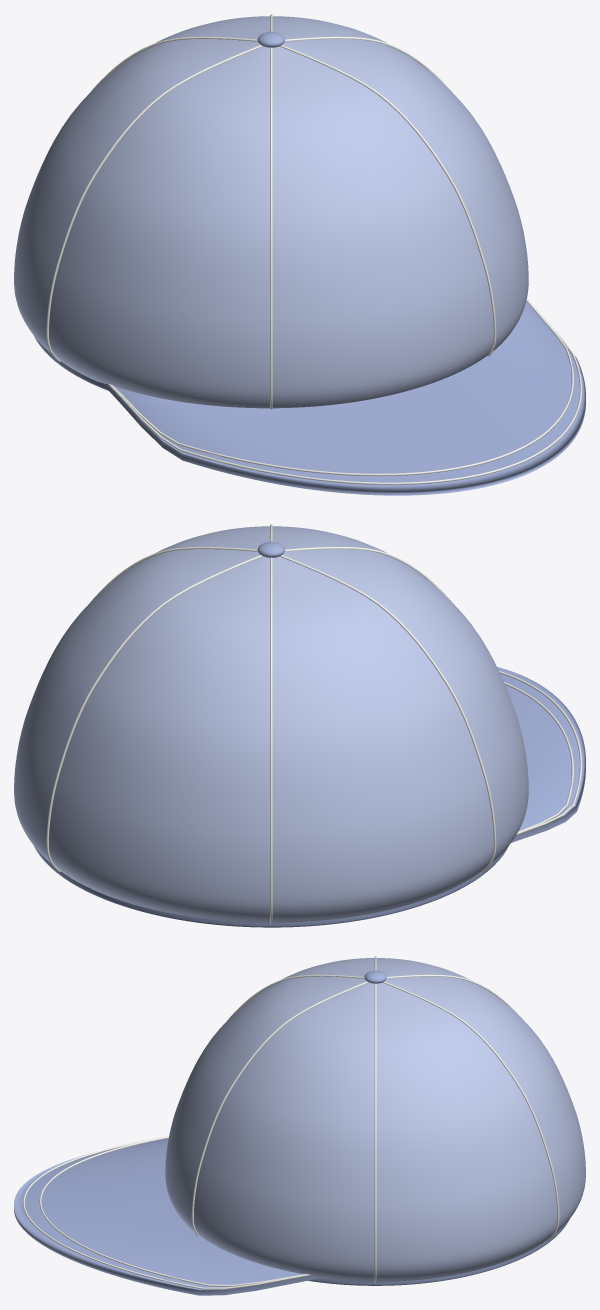
Rendered from sun-cap.glb.
The picture shows the model from 3 angles, top to bottom: view 1: azimuth 30°, elevation 25°; view 2: azimuth 150°, elevation 25°; view 3: azimuth 270°, elevation 25°; orthographic projection. The views are drawn at different scales.
Visible parts, largest first — view 1: continuous-open-six-panel-cloth-crown, attached-curved-bill-with-solid-edge, complete-sewn-cap-012, complete-sewn-cap-011, complete-sewn-cap-006, complete-sewn-cap-004, complete-sewn-cap-005; view 2: continuous-open-six-panel-cloth-crown, attached-curved-bill-with-solid-edge, attached-inner-sweatband, complete-sewn-cap-006, complete-sewn-cap-008, complete-sewn-cap-007, complete-sewn-cap-012, complete-sewn-cap-011; view 3: continuous-open-six-panel-cloth-crown, attached-curved-bill-with-solid-edge, complete-sewn-cap-012, attached-inner-sweatband, complete-sewn-cap-011, complete-sewn-cap-003, complete-sewn-cap-008, complete-sewn-cap-004.
Boxes of the visible parts, box(x1,y1,x2,y2) form: continuous-open-six-panel-cloth-crown: box(14, 16, 528, 408); attached-curved-bill-with-solid-edge: box(99, 301, 585, 495); complete-sewn-cap-012: box(107, 299, 582, 484); complete-sewn-cap-011: box(110, 299, 573, 475); complete-sewn-cap-006: box(46, 45, 262, 362); complete-sewn-cap-004: box(280, 45, 496, 356); complete-sewn-cap-005: box(270, 47, 272, 409); continuous-open-six-panel-cloth-crown: box(14, 526, 528, 922); attached-curved-bill-with-solid-edge: box(497, 667, 585, 842); attached-inner-sweatband: box(34, 846, 508, 927); complete-sewn-cap-006: box(280, 555, 496, 872); complete-sewn-cap-008: box(46, 555, 262, 872); complete-sewn-cap-007: box(270, 557, 272, 923); complete-sewn-cap-012: box(499, 671, 582, 835); complete-sewn-cap-011: box(504, 682, 573, 832); continuous-open-six-panel-cloth-crown: box(165, 958, 585, 1281); attached-curved-bill-with-solid-edge: box(14, 1138, 324, 1295); complete-sewn-cap-012: box(23, 1136, 311, 1289); attached-inner-sweatband: box(308, 1219, 569, 1285); complete-sewn-cap-011: box(39, 1136, 307, 1286); complete-sewn-cap-003: box(374, 983, 376, 1282); complete-sewn-cap-008: box(382, 981, 559, 1240); complete-sewn-cap-004: box(191, 981, 368, 1235).
Bounding box in the file's own units: 1.48 × 0.9423 × 2.
